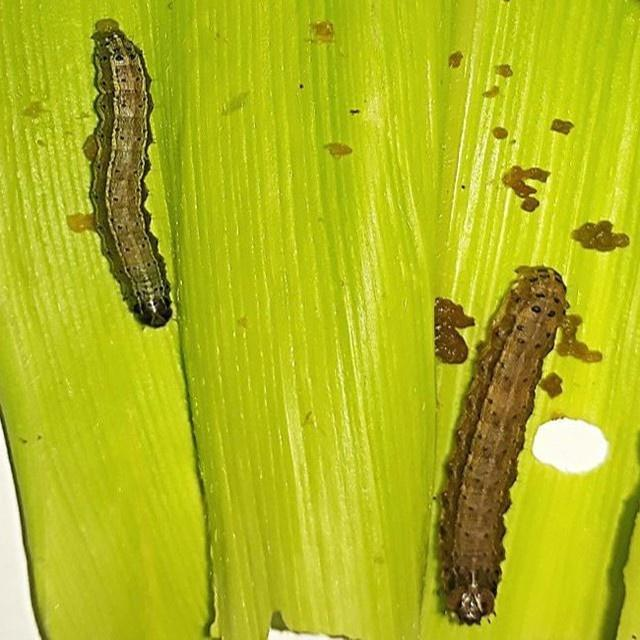gusano_cogollero: (426, 260, 572, 625), (82, 23, 180, 332)
